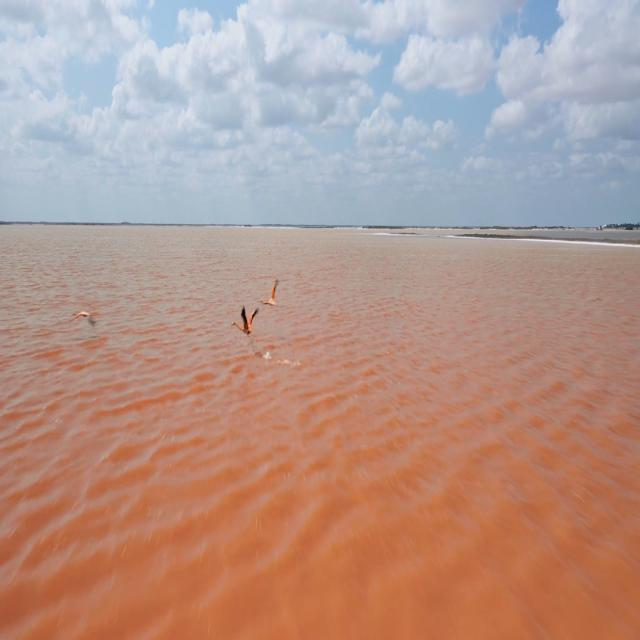bird: (226, 303, 260, 342), (259, 268, 281, 310), (67, 305, 101, 326)
